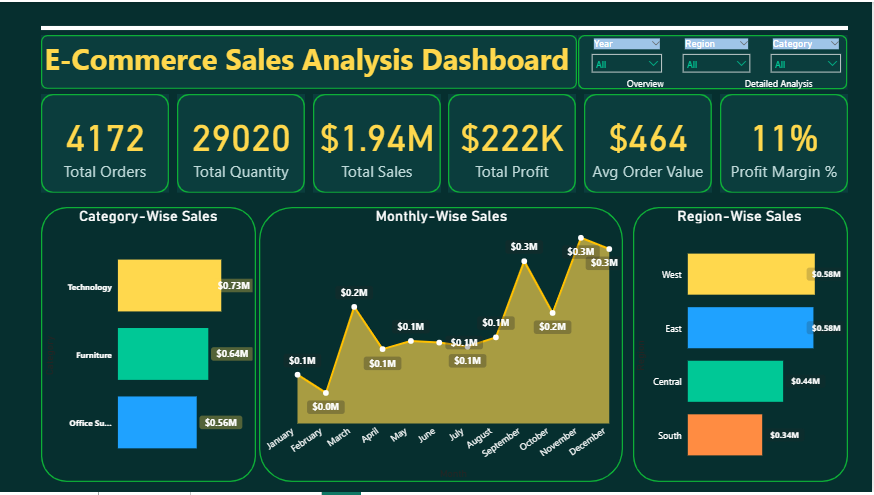

The page's visual inventory and layout, read from the dashboard file:
{"tool":"powerbi","page":{"name":"Overview","canvas":[1280,720],"ordinal":0},"visuals":[{"type":"shape","box":[60.2,135.2,188.1,145.5],"z":0},{"type":"shape","box":[459.4,135.2,188,145.5],"z":1000},{"type":"shape","box":[60.2,48.5,787.6,79.3],"z":2000},{"type":"shape","box":[60.2,27.9,1185.8,20.6],"z":3000},{"type":"textbox","box":[60.2,48.5,787.6,79.3],"z":4000},{"type":"shape","box":[259.9,135.2,188,145.5],"z":5000},{"type":"card","title":"Total Sales","fields":{"Values":["Superstore.Total Sales"]},"box":[459.9,135.2,188.1,145.5],"z":6000},{"type":"shape","box":[658.9,135.2,188,145.5],"z":7000},{"type":"card","title":"Total Sales","fields":{"Values":["Superstore.Total Profit"]},"box":[658.3,135.2,188.1,145.5],"z":8000},{"type":"card","title":"Total Sales","fields":{"Values":["Superstore.Total Orders"]},"box":[60.2,135.2,188.1,145.5],"z":9000},{"type":"card","title":"Total Sales","fields":{"Values":["Superstore.Total Quantity"]},"box":[260.1,135.2,188.1,145.5],"z":10000},{"type":"shape","box":[858.4,135.2,188,145.5],"z":11000},{"type":"card","fields":{"Values":["Superstore.Avg Order Value"]},"box":[858.1,135.2,188.1,145.5],"z":12000},{"type":"shape","box":[380.6,301.2,534.9,404.1],"z":13000},{"type":"shape","box":[60.2,301.2,315.9,404.1],"z":14000},{"type":"areaChart","title":"Monthly-Wise Sales","fields":{"Category":["Superstore.Order_Date.Variation.Date Hierarchy.Month"],"Y":["Sum(Superstore.Sales)"]},"box":[380.6,301.2,536.3,404.1],"z":15000},{"type":"shape","box":[930.1,301.2,315.9,404.1],"z":16000},{"type":"shape","box":[850,48.6,395.7,80],"z":17000},{"type":"barChart","title":"Category-Wise Sales","fields":{"Category":["Superstore.Category"],"Y":["Sum(Superstore.Sales)"]},"box":[60.2,301.2,315.9,404.1],"z":18000},{"type":"barChart","title":"Region-Wise Sales","fields":{"Y":["Sum(Superstore.Sales)"],"Category":["Superstore.Region"]},"box":[928.7,301.2,315.9,404.1],"z":19000},{"type":"slicer","fields":{"Values":["Superstore.Order_Date.Variation.Date Hierarchy.Year"]},"box":[859.6,48.5,123.4,55.8],"z":20000},{"type":"slicer","fields":{"Values":["Superstore.Region"]},"box":[993.3,48.5,119,55.8],"z":21000},{"type":"slicer","fields":{"Values":["Superstore.Category"]},"box":[1122.6,48.5,123.4,55.8],"z":22000},{"type":"shape","box":[1058,135.2,188.1,145.5],"z":22001},{"type":"card","fields":{"Values":["Superstore.Profit Margin"]},"box":[1058,135.2,188.1,145.5],"z":22002},{"type":"pageNavigator","box":[855.2,104.3,383.5,23.5],"z":22003}]}

Visuals, with their boxes in screenshot pixels (x1, y1, x2, y2), scaled from the page's 1280x720 canvas onto the 874x495 screenshot:
shape: [left=41, top=93, right=170, bottom=193]
shape: [left=314, top=93, right=442, bottom=193]
shape: [left=41, top=33, right=579, bottom=88]
shape: [left=41, top=19, right=851, bottom=33]
textbox: [left=41, top=33, right=579, bottom=88]
shape: [left=177, top=93, right=306, bottom=193]
"Total Sales" card: [left=314, top=93, right=442, bottom=193]
shape: [left=450, top=93, right=578, bottom=193]
"Total Sales" card: [left=449, top=93, right=578, bottom=193]
"Total Sales" card: [left=41, top=93, right=170, bottom=193]
"Total Sales" card: [left=178, top=93, right=306, bottom=193]
shape: [left=586, top=93, right=714, bottom=193]
card - Superstore.Avg Order Value: [left=586, top=93, right=714, bottom=193]
shape: [left=260, top=207, right=625, bottom=485]
shape: [left=41, top=207, right=257, bottom=485]
"Monthly-Wise Sales" areaChart: [left=260, top=207, right=626, bottom=485]
shape: [left=635, top=207, right=851, bottom=485]
shape: [left=580, top=33, right=851, bottom=88]
"Category-Wise Sales" barChart: [left=41, top=207, right=257, bottom=485]
"Region-Wise Sales" barChart: [left=634, top=207, right=850, bottom=485]
slicer - Superstore.Order_Date.Variation.Date Hierarchy.Year: [left=587, top=33, right=671, bottom=72]
slicer - Superstore.Region: [left=678, top=33, right=759, bottom=72]
slicer - Superstore.Category: [left=767, top=33, right=851, bottom=72]
shape: [left=722, top=93, right=851, bottom=193]
card - Superstore.Profit Margin: [left=722, top=93, right=851, bottom=193]
pageNavigator: [left=584, top=72, right=846, bottom=88]
